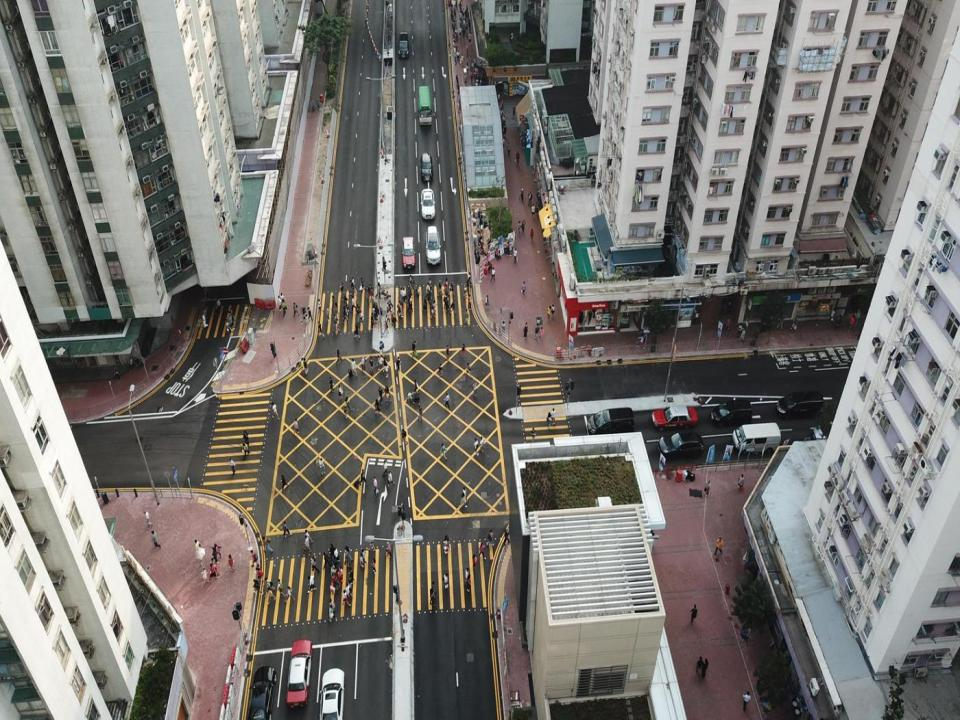bus: (418, 85, 432, 125)
car: (286, 639, 312, 708), (248, 664, 278, 719), (658, 431, 704, 460), (319, 667, 344, 719), (710, 399, 753, 427), (652, 406, 698, 430), (811, 420, 844, 450), (420, 188, 436, 218), (401, 236, 416, 268)
van: (731, 422, 780, 455), (587, 408, 633, 440), (777, 390, 823, 419), (425, 226, 441, 265), (420, 153, 433, 181), (398, 32, 408, 58)
